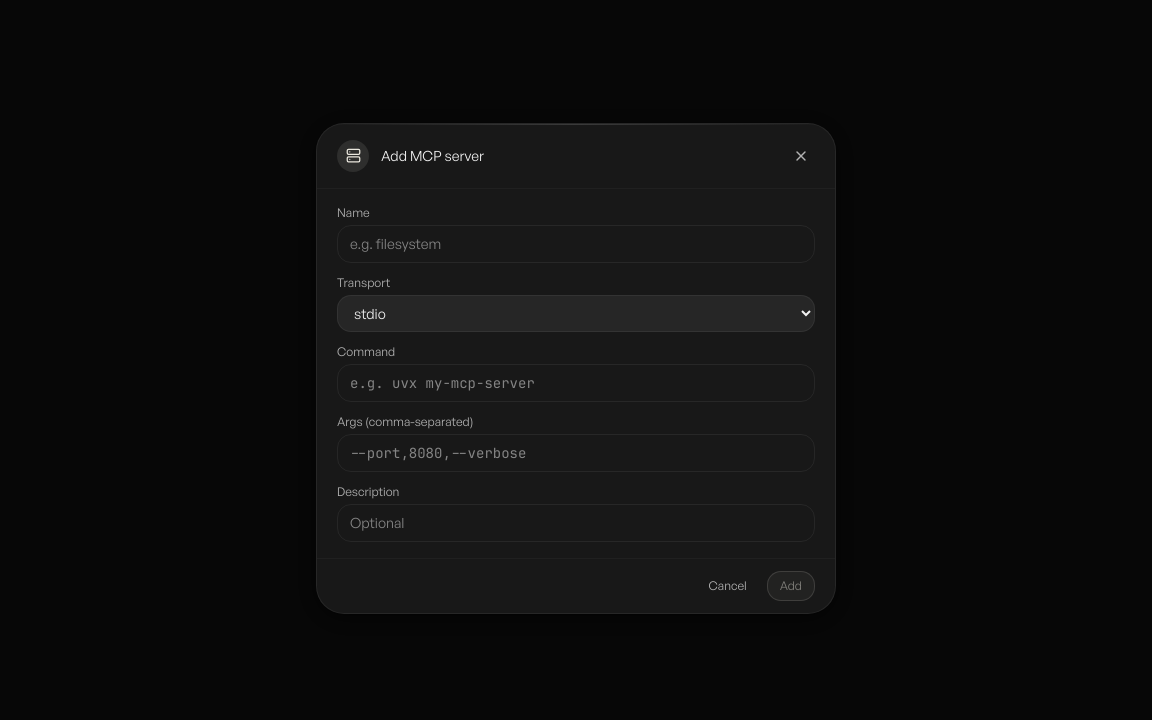
Test: MCPAddServerModal › transport=http shows url input (and no command)
Select "http" in the dropdown labelled "Transport" at (576,313), box [337,294,815,332]
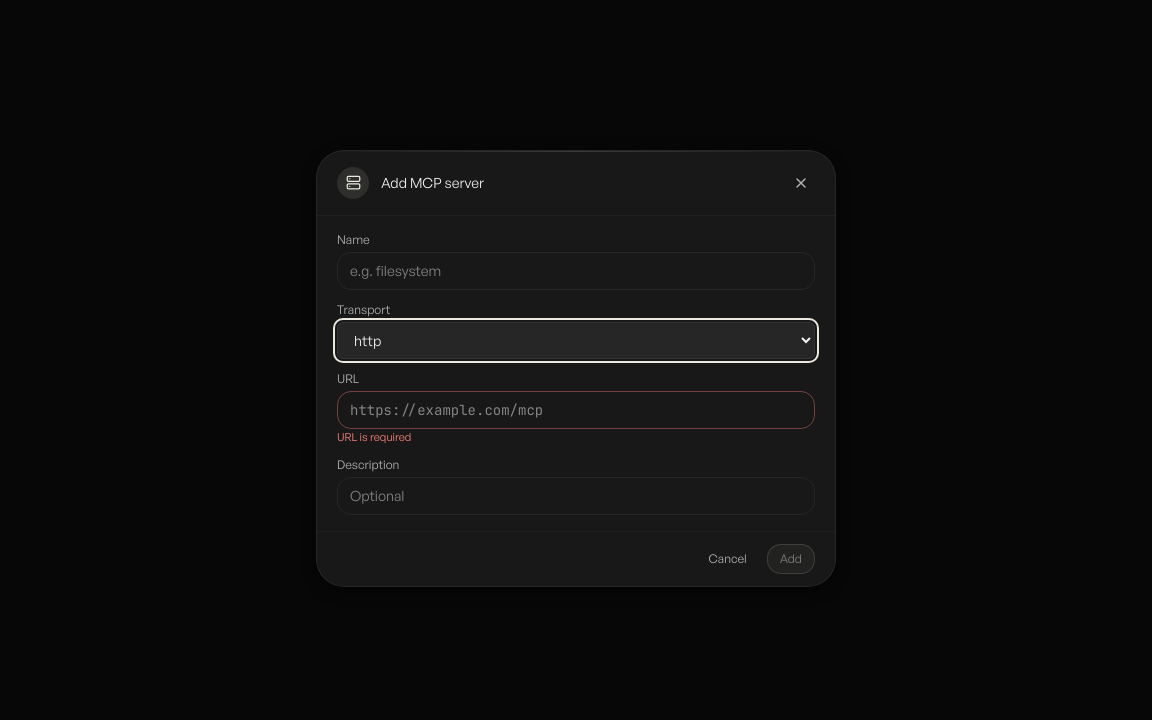
Expected: the field labelled "URL" is shown, [337,390,815,428]
Result: the text labelled "Command" is gone
